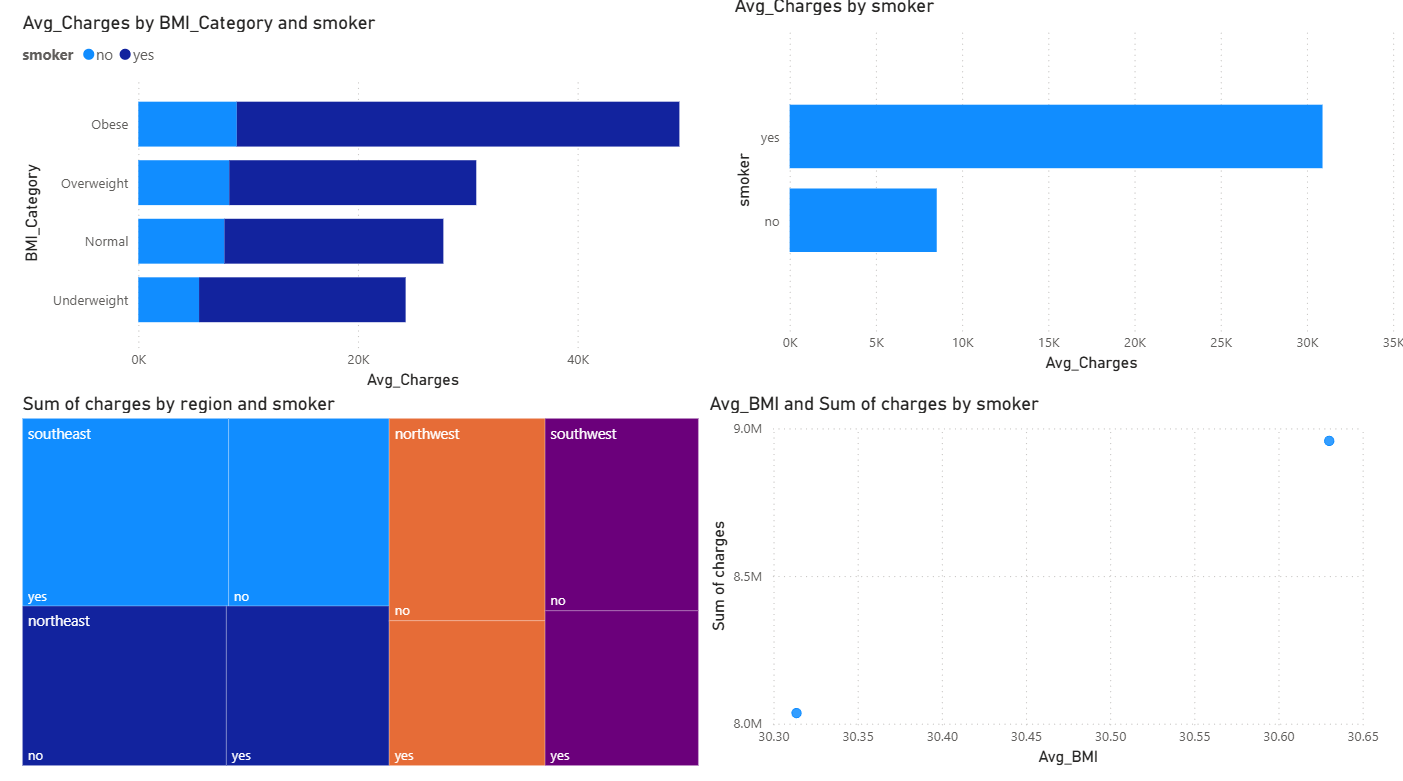

The page's visual inventory and layout, read from the dashboard file:
{"tool":"powerbi","page":{"name":"Page 2","canvas":[1280,720],"ordinal":1},"visuals":[{"type":"barChart","fields":{"Category":["cleaned_insurance.BMI_Category"],"Series":["cleaned_insurance.smoker"],"Y":["cleaned_insurance.Avg_Charges"]},"box":[17.1,15.2,622.9,347.5],"z":0},{"type":"treemap","fields":{"Group":["cleaned_insurance.region"],"Details":["cleaned_insurance.smoker"],"Values":["Sum(cleaned_insurance.charges)"]},"box":[17.1,360.8,622.9,343.7],"z":1},{"type":"scatterChart","fields":{"X":["cleaned_insurance.Avg_BMI"],"Y":["Sum(cleaned_insurance.charges)"],"Category":["cleaned_insurance.smoker"]},"box":[640,360.8,617.2,343.7],"z":2},{"type":"barChart","fields":{"Category":["cleaned_insurance.smoker"],"Y":["cleaned_insurance.Avg_Charges"]},"box":[662.8,0,617.2,347.5],"z":3}]}

Visuals, with their boxes in screenshot pixels (x1, y1, x2, y2), scaled from the page's 1280x720 canvas onto the 1403x781 screenshot:
barChart - cleaned_insurance.BMI_Category x cleaned_insurance.smoker: [left=19, top=16, right=702, bottom=393]
treemap - cleaned_insurance.region x cleaned_insurance.smoker: [left=19, top=391, right=702, bottom=764]
scatterChart - cleaned_insurance.Avg_BMI x Sum(cleaned_insurance.charges): [left=702, top=391, right=1378, bottom=764]
barChart - cleaned_insurance.smoker x cleaned_insurance.Avg_Charges: [left=726, top=0, right=1402, bottom=377]
